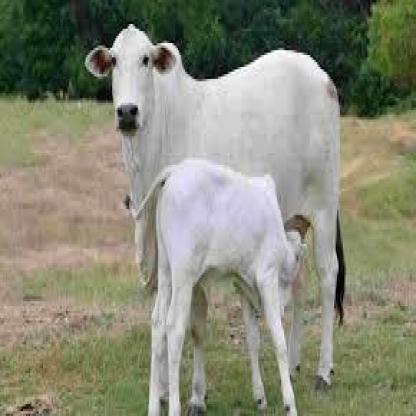cow: (86, 26, 340, 416), (144, 160, 311, 416)
